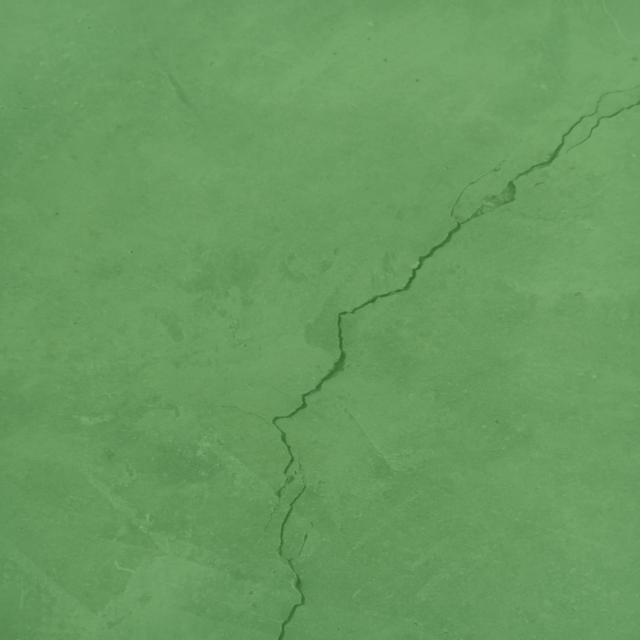crack: (264, 83, 640, 530), (278, 521, 314, 640), (565, 99, 640, 154), (450, 162, 504, 216), (276, 474, 308, 558), (208, 405, 268, 424)
